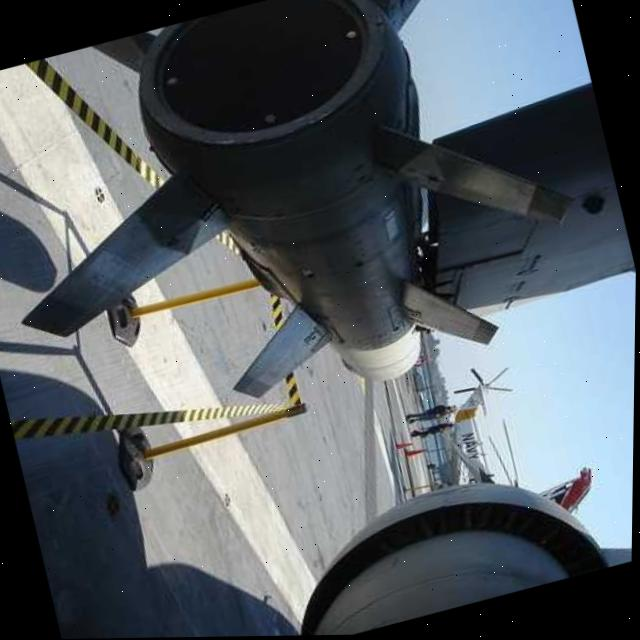missile: (0, 0, 604, 469)
